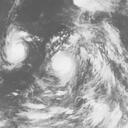cyclone: (50, 51, 81, 84)
